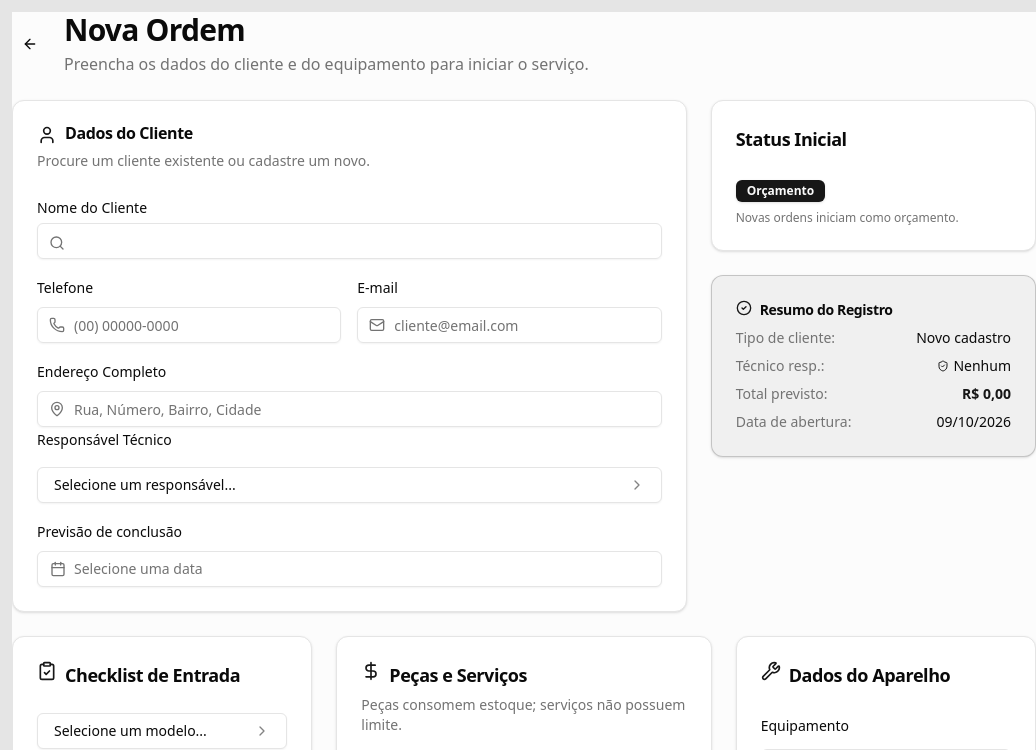
Scenario: ServiceOrderCreate › shows a local technician lookup error without clearing its selection
The width and height of the screenshot is (1036, 750).
What coordinates should you click on to do the following:
click the button "Selecione um responsável..."
I would click on:
 (145, 484)
Its box is [37,467,662,503].
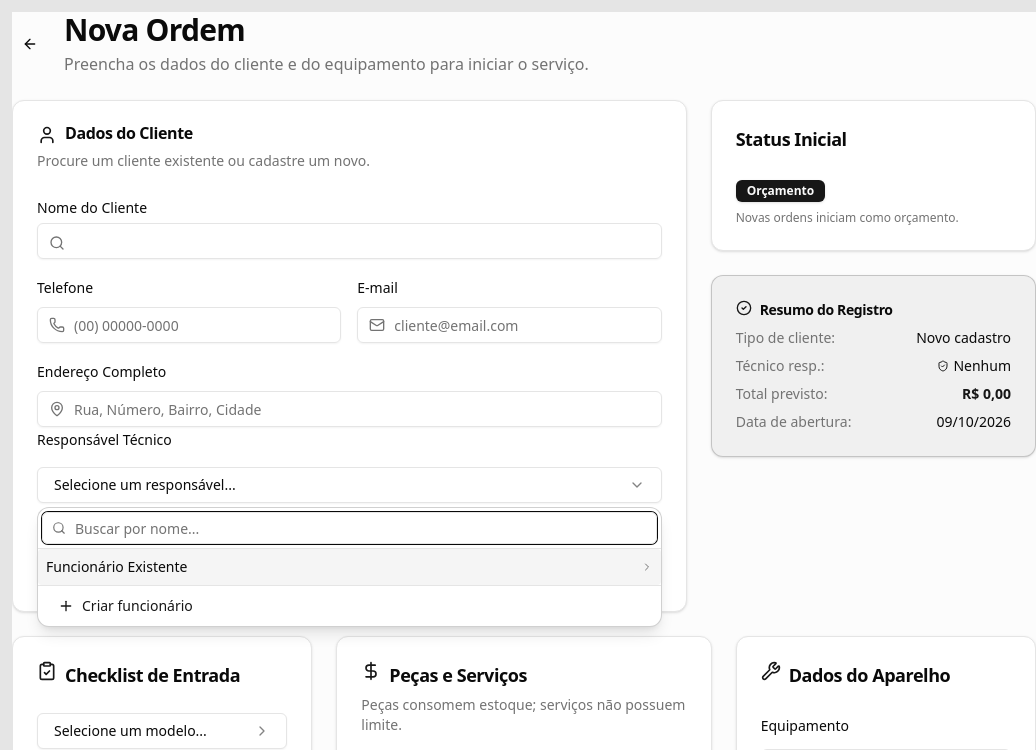
What coordinates should you click on to do the following:
click the option "Funcionário Existente"
I would click on:
 (117, 566)
Its box is [38,549,661,585].
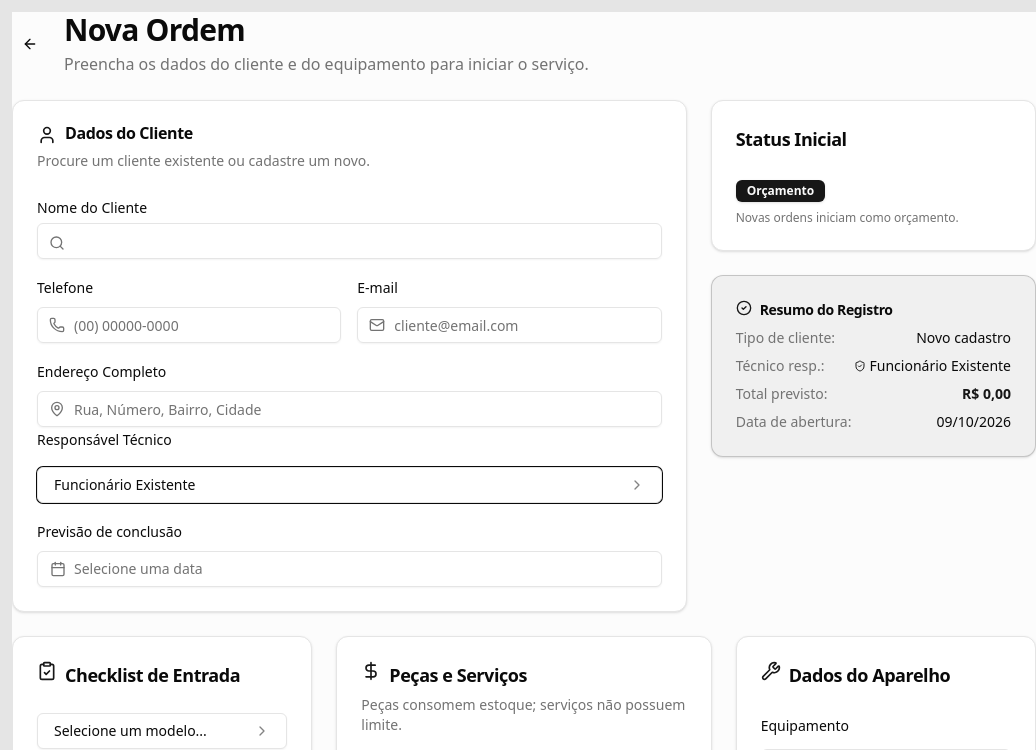
What coordinates should you click on to do the following:
click the button "Funcionário Existente"
I would click on:
 (125, 484)
Its box is [37,467,662,503].
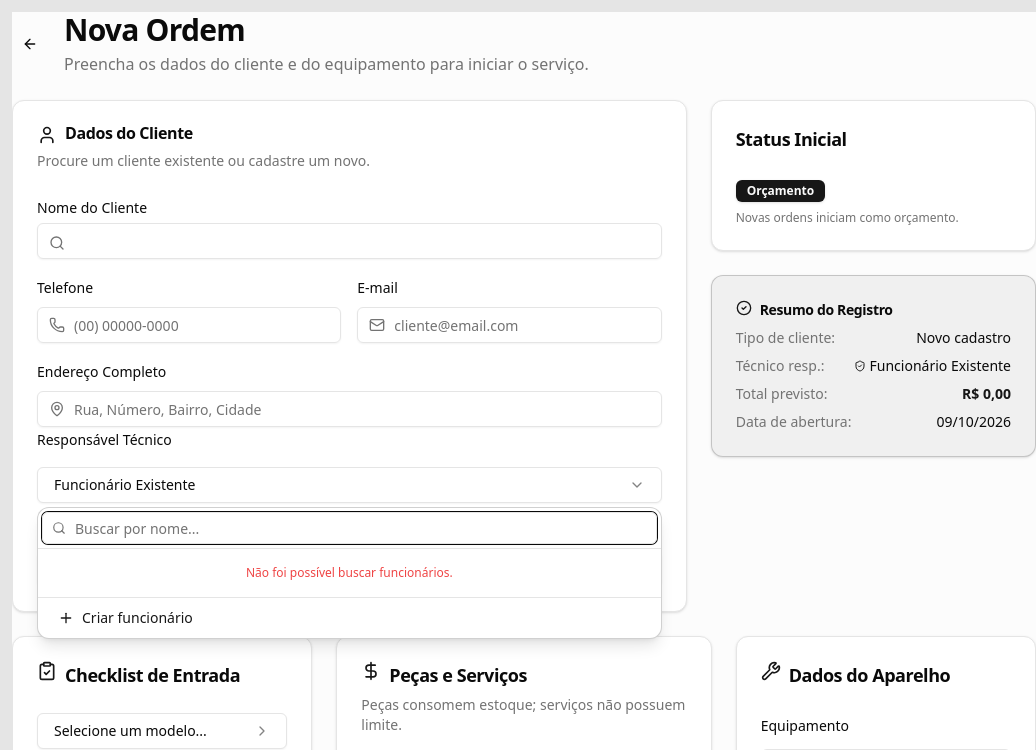
expect the button "Funcionário Existente" is shown: met, box [37,467,662,503]
expect the text "Não foi possível buscar funcionários." is shown: met, box [246,564,453,581]
